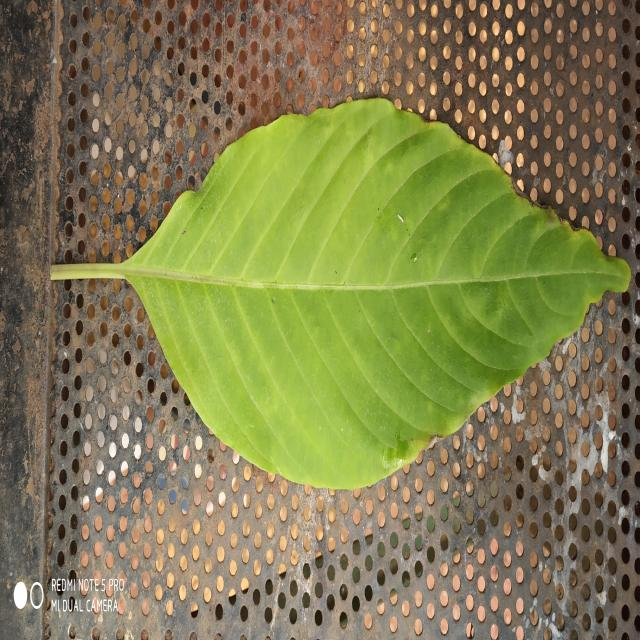malabar_nut: (51, 100, 630, 488)
